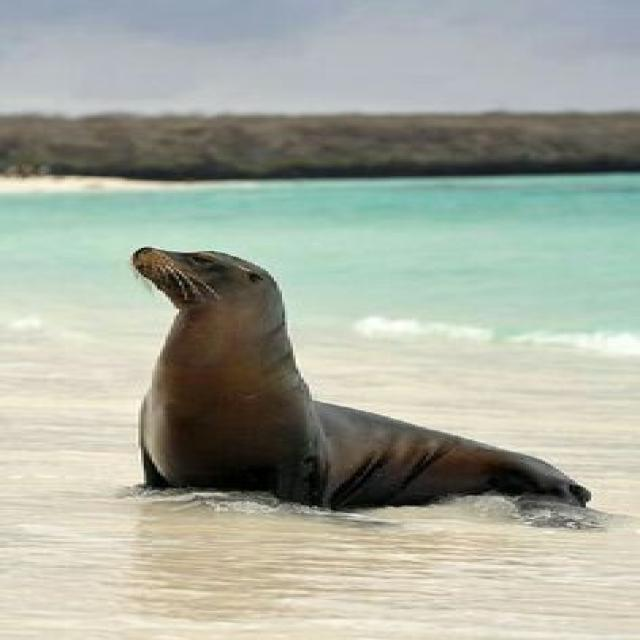Carnivorous: (130, 247, 591, 513)
